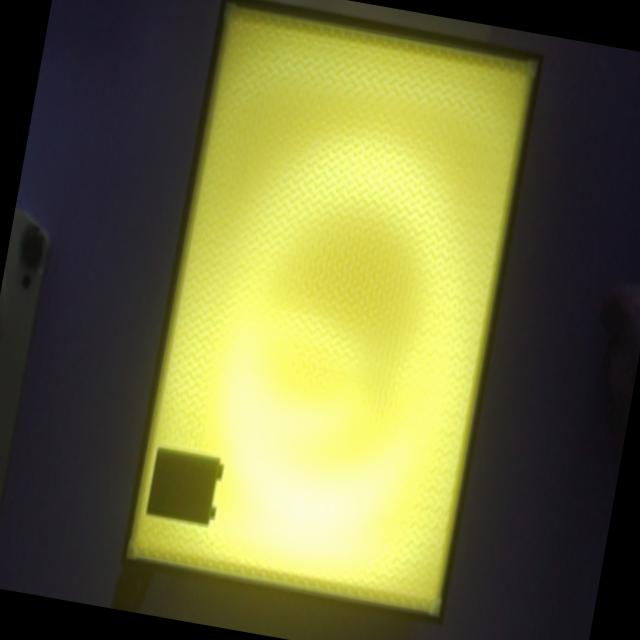bateria: (146, 445, 223, 526)
mesa: (118, 0, 543, 626)
